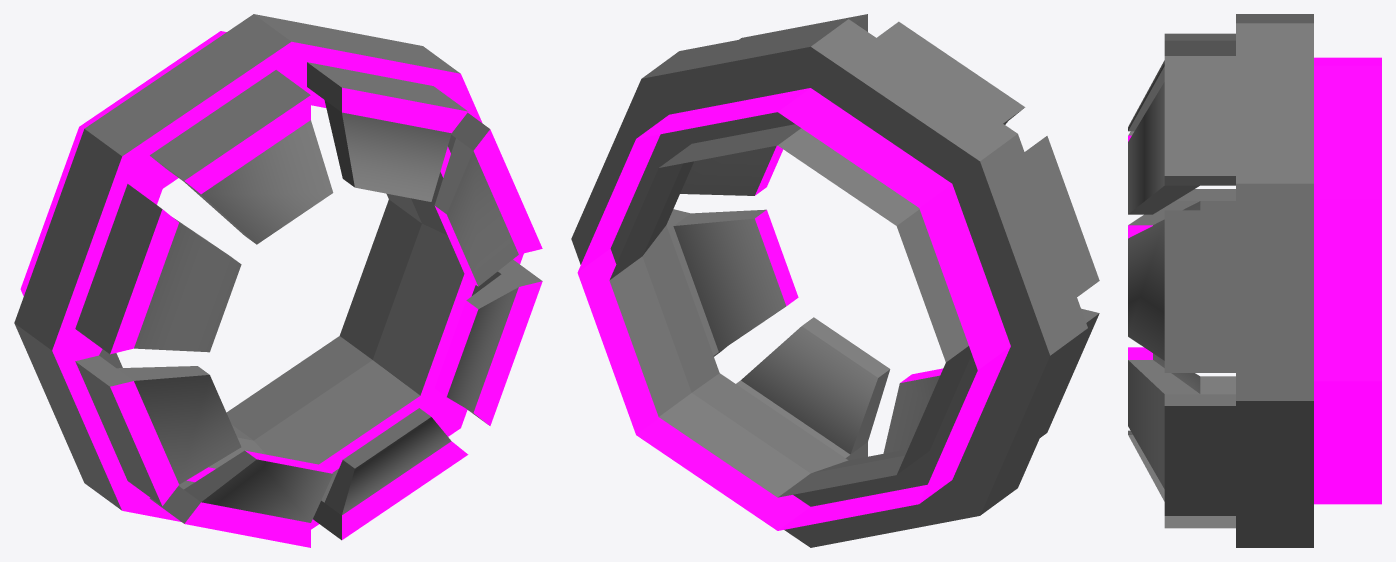
File: BaseTower fire upgrade 3.fbx
The picture shows the model from 3 angles, left to right: view 1: azimuth 30°, elevation 25°; view 2: azimuth 150°, elevation 25°; view 3: azimuth 270°, elevation 25°; orthographic projection. The views are drawn at different scales.
Parts seen in each view (by area): view 1: TowerBase fire 3; view 2: TowerBase fire 3; view 3: TowerBase fire 3.
Part boxes in pixels (left/top/right/bottom): TowerBase fire 3: left=14, top=14, right=542, bottom=547; TowerBase fire 3: left=571, top=14, right=1099, bottom=547; TowerBase fire 3: left=1128, top=14, right=1381, bottom=547.
Bounding box in the file's own units: 29.16 × 29.16 × 13.02.
